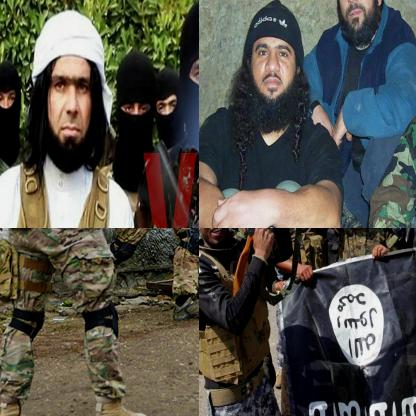rifle: (233, 228, 310, 319)
